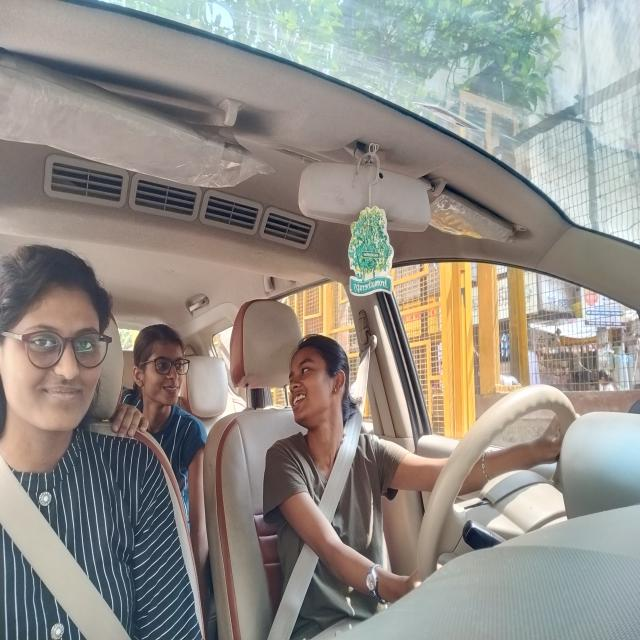LeftRight: (280, 342, 355, 428)
person: (1, 249, 114, 438), (132, 314, 193, 417)
talking: (288, 395, 312, 410)
